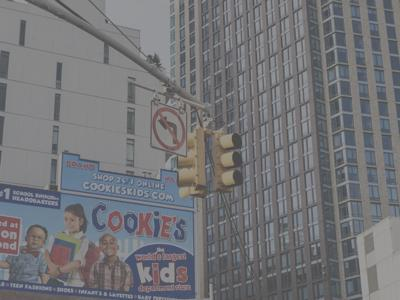International Road Signal Light: (153, 96, 238, 201), (149, 101, 187, 158), (217, 131, 244, 192), (175, 130, 198, 198)
